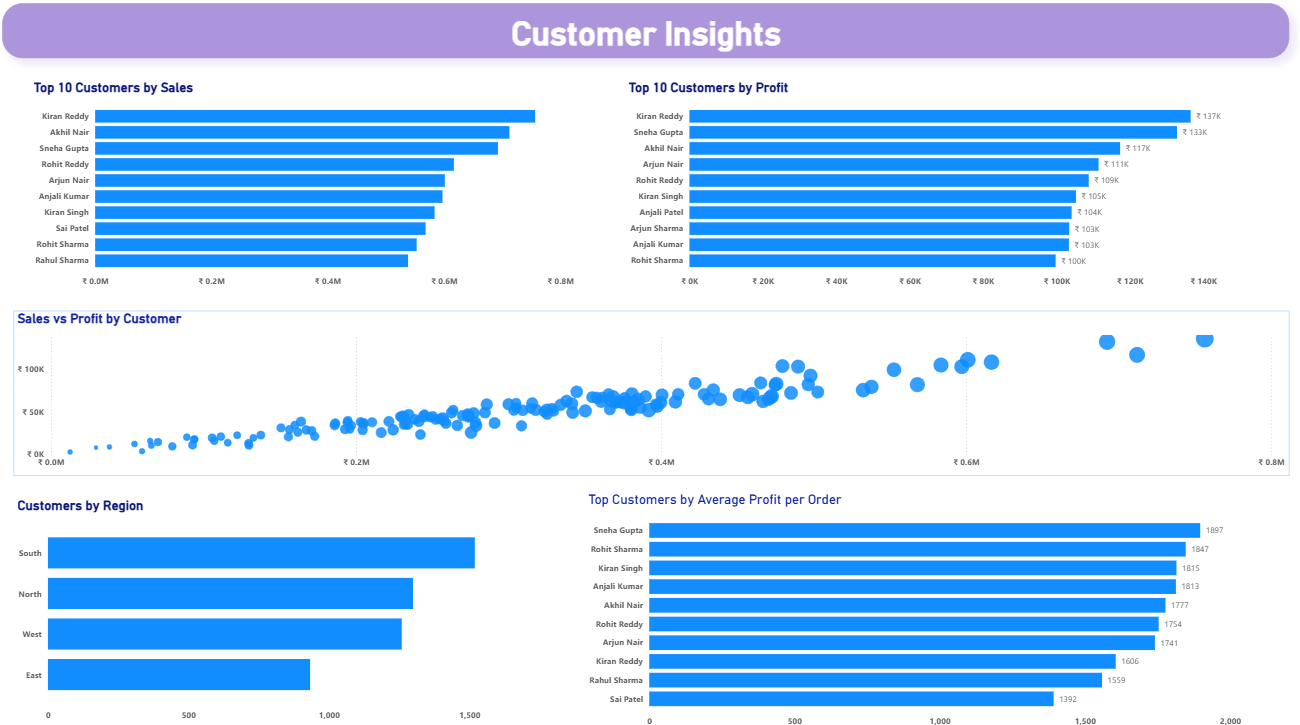

The page's visual inventory and layout, read from the dashboard file:
{"tool":"powerbi","page":{"name":"Customer Insights","canvas":[1920,1080],"ordinal":1},"visuals":[{"type":"barChart","title":"Top 10 Customers by Sales","fields":{"Category":["Retail_Sales_Master.Customer_Name"],"Y":["📊 Measures.Total Sales"]},"box":[48,112,816,336],"z":0},{"type":"barChart","title":"Top 10 Customers by Profit","fields":{"Category":["Retail_Sales_Master.Customer_Name"],"Y":["📊 Measures.Total Profit"]},"box":[912,112,912,336],"z":1000},{"type":"scatterChart","title":"Sales vs Profit by Customer","fields":{"X":["📊 Measures.Total Sales"],"Y":["📊 Measures.Total Profit"],"Size":["📊 Measures.Total Orders"],"Category":["Retail_Sales_Master.Customer_Name"]},"box":[32,464,1856,240],"z":2000},{"type":"barChart","title":"Customers by Region","fields":{"Category":["Retail_Sales_Master.Region"],"Y":["CountNonNull(Retail_Sales_Master.Customer_Name)"]},"box":[24,720,744,360],"z":3000},{"type":"barChart","title":"Top Customers by Average Profit per Order","fields":{"Category":["Retail_Sales_Master.Customer_Name"],"Y":["📊 Measures.Average Profit per Order"]},"box":[864,728,960,352],"z":4000},{"type":"textbox","title":"Customer Insights","box":[16,16,1872,80],"z":5000}]}

Visuals, with their boxes in screenshot pixels (x1, y1, x2, y2), scaled from the page's 1920x1080 canvas onto the 1300x725 screenshot:
"Top 10 Customers by Sales" barChart: <region>32, 75, 585, 301</region>
"Top 10 Customers by Profit" barChart: <region>618, 75, 1235, 301</region>
"Sales vs Profit by Customer" scatterChart: <region>22, 311, 1278, 473</region>
"Customers by Region" barChart: <region>16, 483, 520, 724</region>
"Top Customers by Average Profit per Order" barChart: <region>585, 489, 1235, 724</region>
"Customer Insights" textbox: <region>11, 11, 1278, 64</region>
